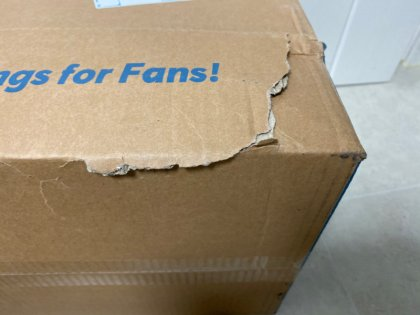damaged package: (76, 18, 296, 185)
